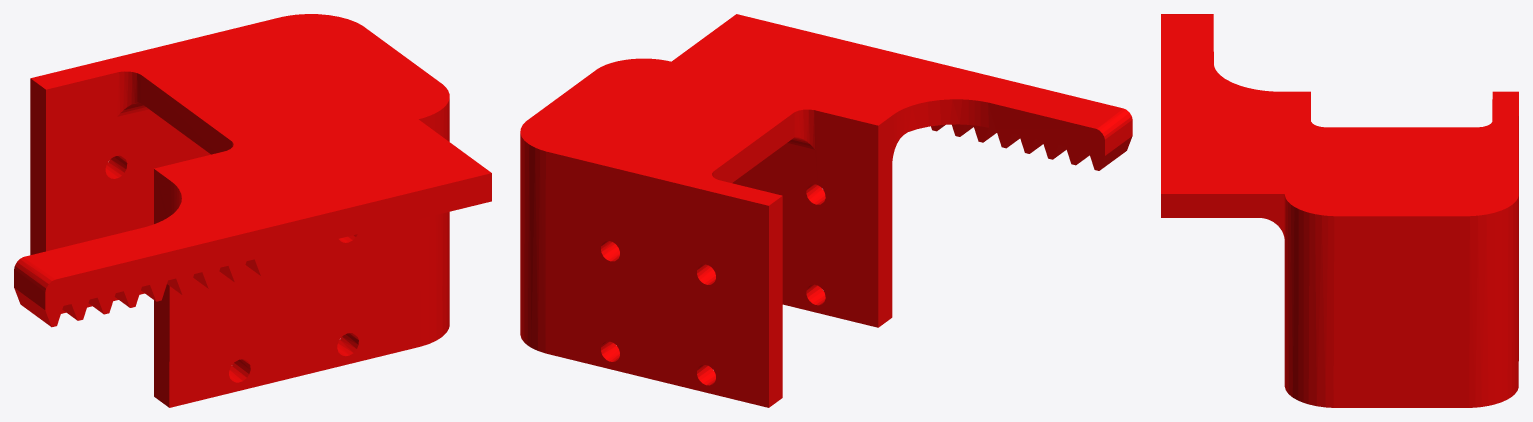
Rendered from left_arm_2_hand_1_rack_2.glb.
3 views of the same model, side by side, from view 1: azimuth 30°, elevation 25°; view 2: azimuth 150°, elevation 25°; view 3: azimuth 270°, elevation 25° (orthographic). The views are drawn at different scales.
Parts seen in each view (by area): view 1: left_arm_2_hand_1_rack_2.obj; view 2: left_arm_2_hand_1_rack_2.obj; view 3: left_arm_2_hand_1_rack_2.obj.
Boxes of the visible parts, bbox=[...] form: left_arm_2_hand_1_rack_2.obj: bbox=[14, 14, 491, 407]; left_arm_2_hand_1_rack_2.obj: bbox=[520, 14, 1132, 407]; left_arm_2_hand_1_rack_2.obj: bbox=[1161, 14, 1518, 407].
Bounding box in the file's own units: 0.0925 × 0.0402 × 0.068.
